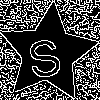S: (23, 28, 64, 80)
